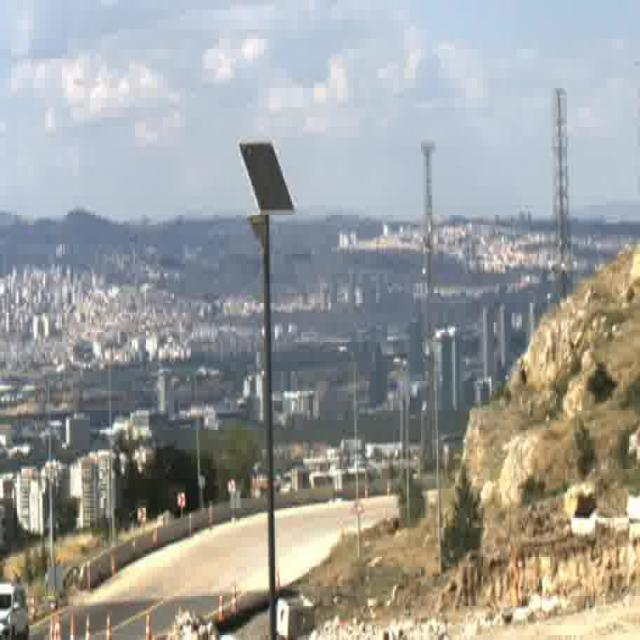Car: (0, 590, 29, 640)
